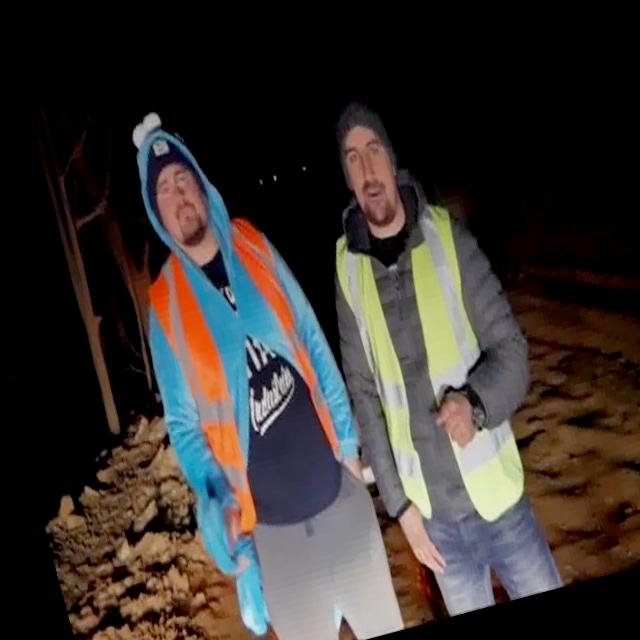vest: (136, 208, 354, 541), (326, 200, 535, 544)
